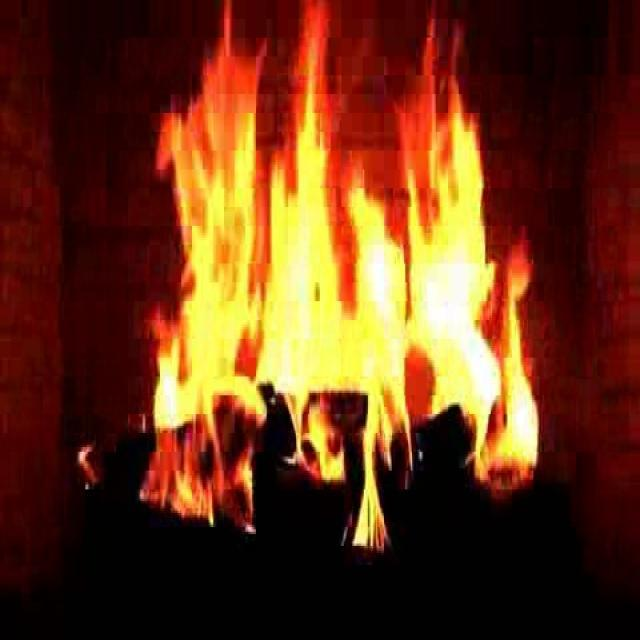Fire: (163, 55, 536, 522)
